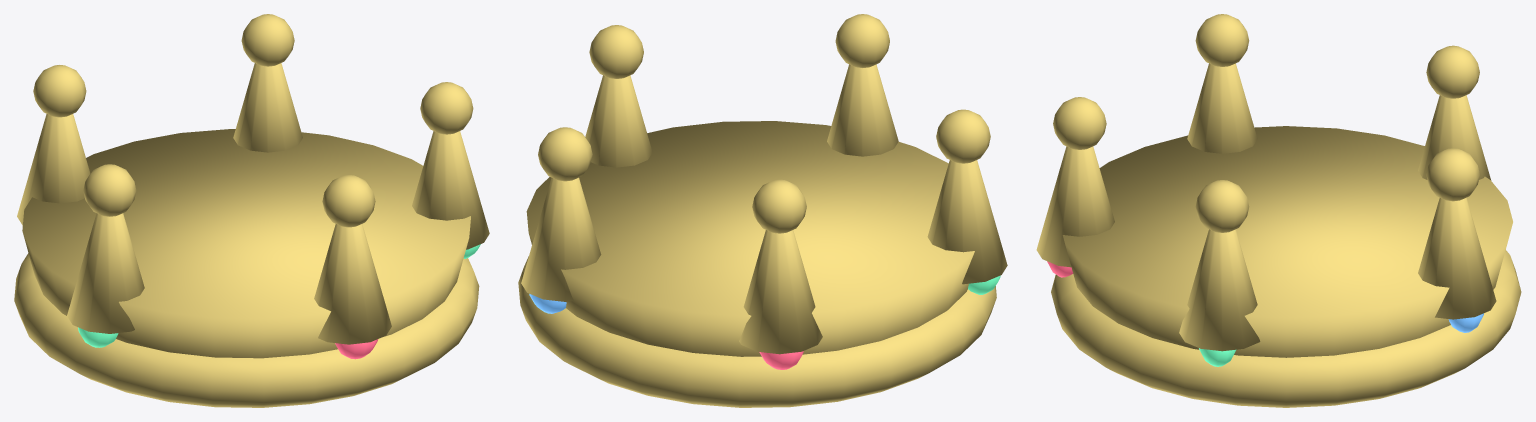
File: crown.glb
3 views of the same model, side by side, from view 1: azimuth 30°, elevation 25°; view 2: azimuth 150°, elevation 25°; view 3: azimuth 270°, elevation 25° (orthographic). The views are drawn at different scales.
Parts seen in each view (by area): view 1: CrownRim, CrownBand, Prong_0, Prong_4, Prong_1, Prong_3, Prong_2, Pearl_1, Pearl_4, Pearl_2, Pearl_3, Pearl_0 (+2 smaller); view 2: CrownRim, CrownBand, Prong_3, Prong_2, Prong_4, Prong_0, Prong_1, Pearl_4, Pearl_1, Pearl_2, Pearl_0, Pearl_3 (+1 smaller); view 3: CrownRim, CrownBand, Prong_1, Prong_2, Prong_0, Prong_4, Prong_3, Pearl_2, Pearl_3, Pearl_4, Pearl_0, Pearl_1 (+1 smaller).
Boxes of the visible parts, <box> form: CrownRim: <box>22,129,470,358</box>; CrownBand: <box>14,253,479,407</box>; Prong_0: <box>314,224,391,344</box>; Prong_4: <box>67,213,144,333</box>; Prong_1: <box>412,131,489,249</box>; Prong_3: <box>17,114,90,225</box>; Prong_2: <box>233,63,302,152</box>; Pearl_1: <box>420,82,473,134</box>; Pearl_4: <box>83,164,136,216</box>; Pearl_2: <box>241,14,294,66</box>; Pearl_3: <box>33,65,86,117</box>; Pearl_0: <box>322,175,375,227</box>; CrownRim: <box>526,121,974,356</box>; CrownBand: <box>518,256,996,407</box>; Prong_3: <box>739,230,822,354</box>; Prong_2: <box>521,177,601,301</box>; Prong_4: <box>927,160,1007,284</box>; Prong_0: <box>827,64,898,156</box>; Prong_1: <box>585,75,652,167</box>; Pearl_4: <box>936,109,990,163</box>; Pearl_1: <box>589,25,643,78</box>; Pearl_2: <box>538,127,592,181</box>; Pearl_0: <box>835,14,889,67</box>; Pearl_3: <box>752,179,806,233</box>; CrownRim: <box>1062,126,1512,357</box>; CrownBand: <box>1051,250,1521,407</box>; Prong_1: <box>1179,229,1260,351</box>; Prong_2: <box>1418,197,1496,319</box>; Prong_0: <box>1036,146,1114,267</box>; Prong_4: <box>1187,63,1257,153</box>; Prong_3: <box>1418,95,1491,180</box>; Pearl_2: <box>1426,148,1479,201</box>; Pearl_3: <box>1426,45,1479,98</box>; Pearl_4: <box>1195,14,1249,66</box>; Pearl_0: <box>1053,97,1106,149</box>; Pearl_1: <box>1195,180,1249,232</box>.
Size of the model in its own units: 0.4644 by 0.2326 by 0.47.
